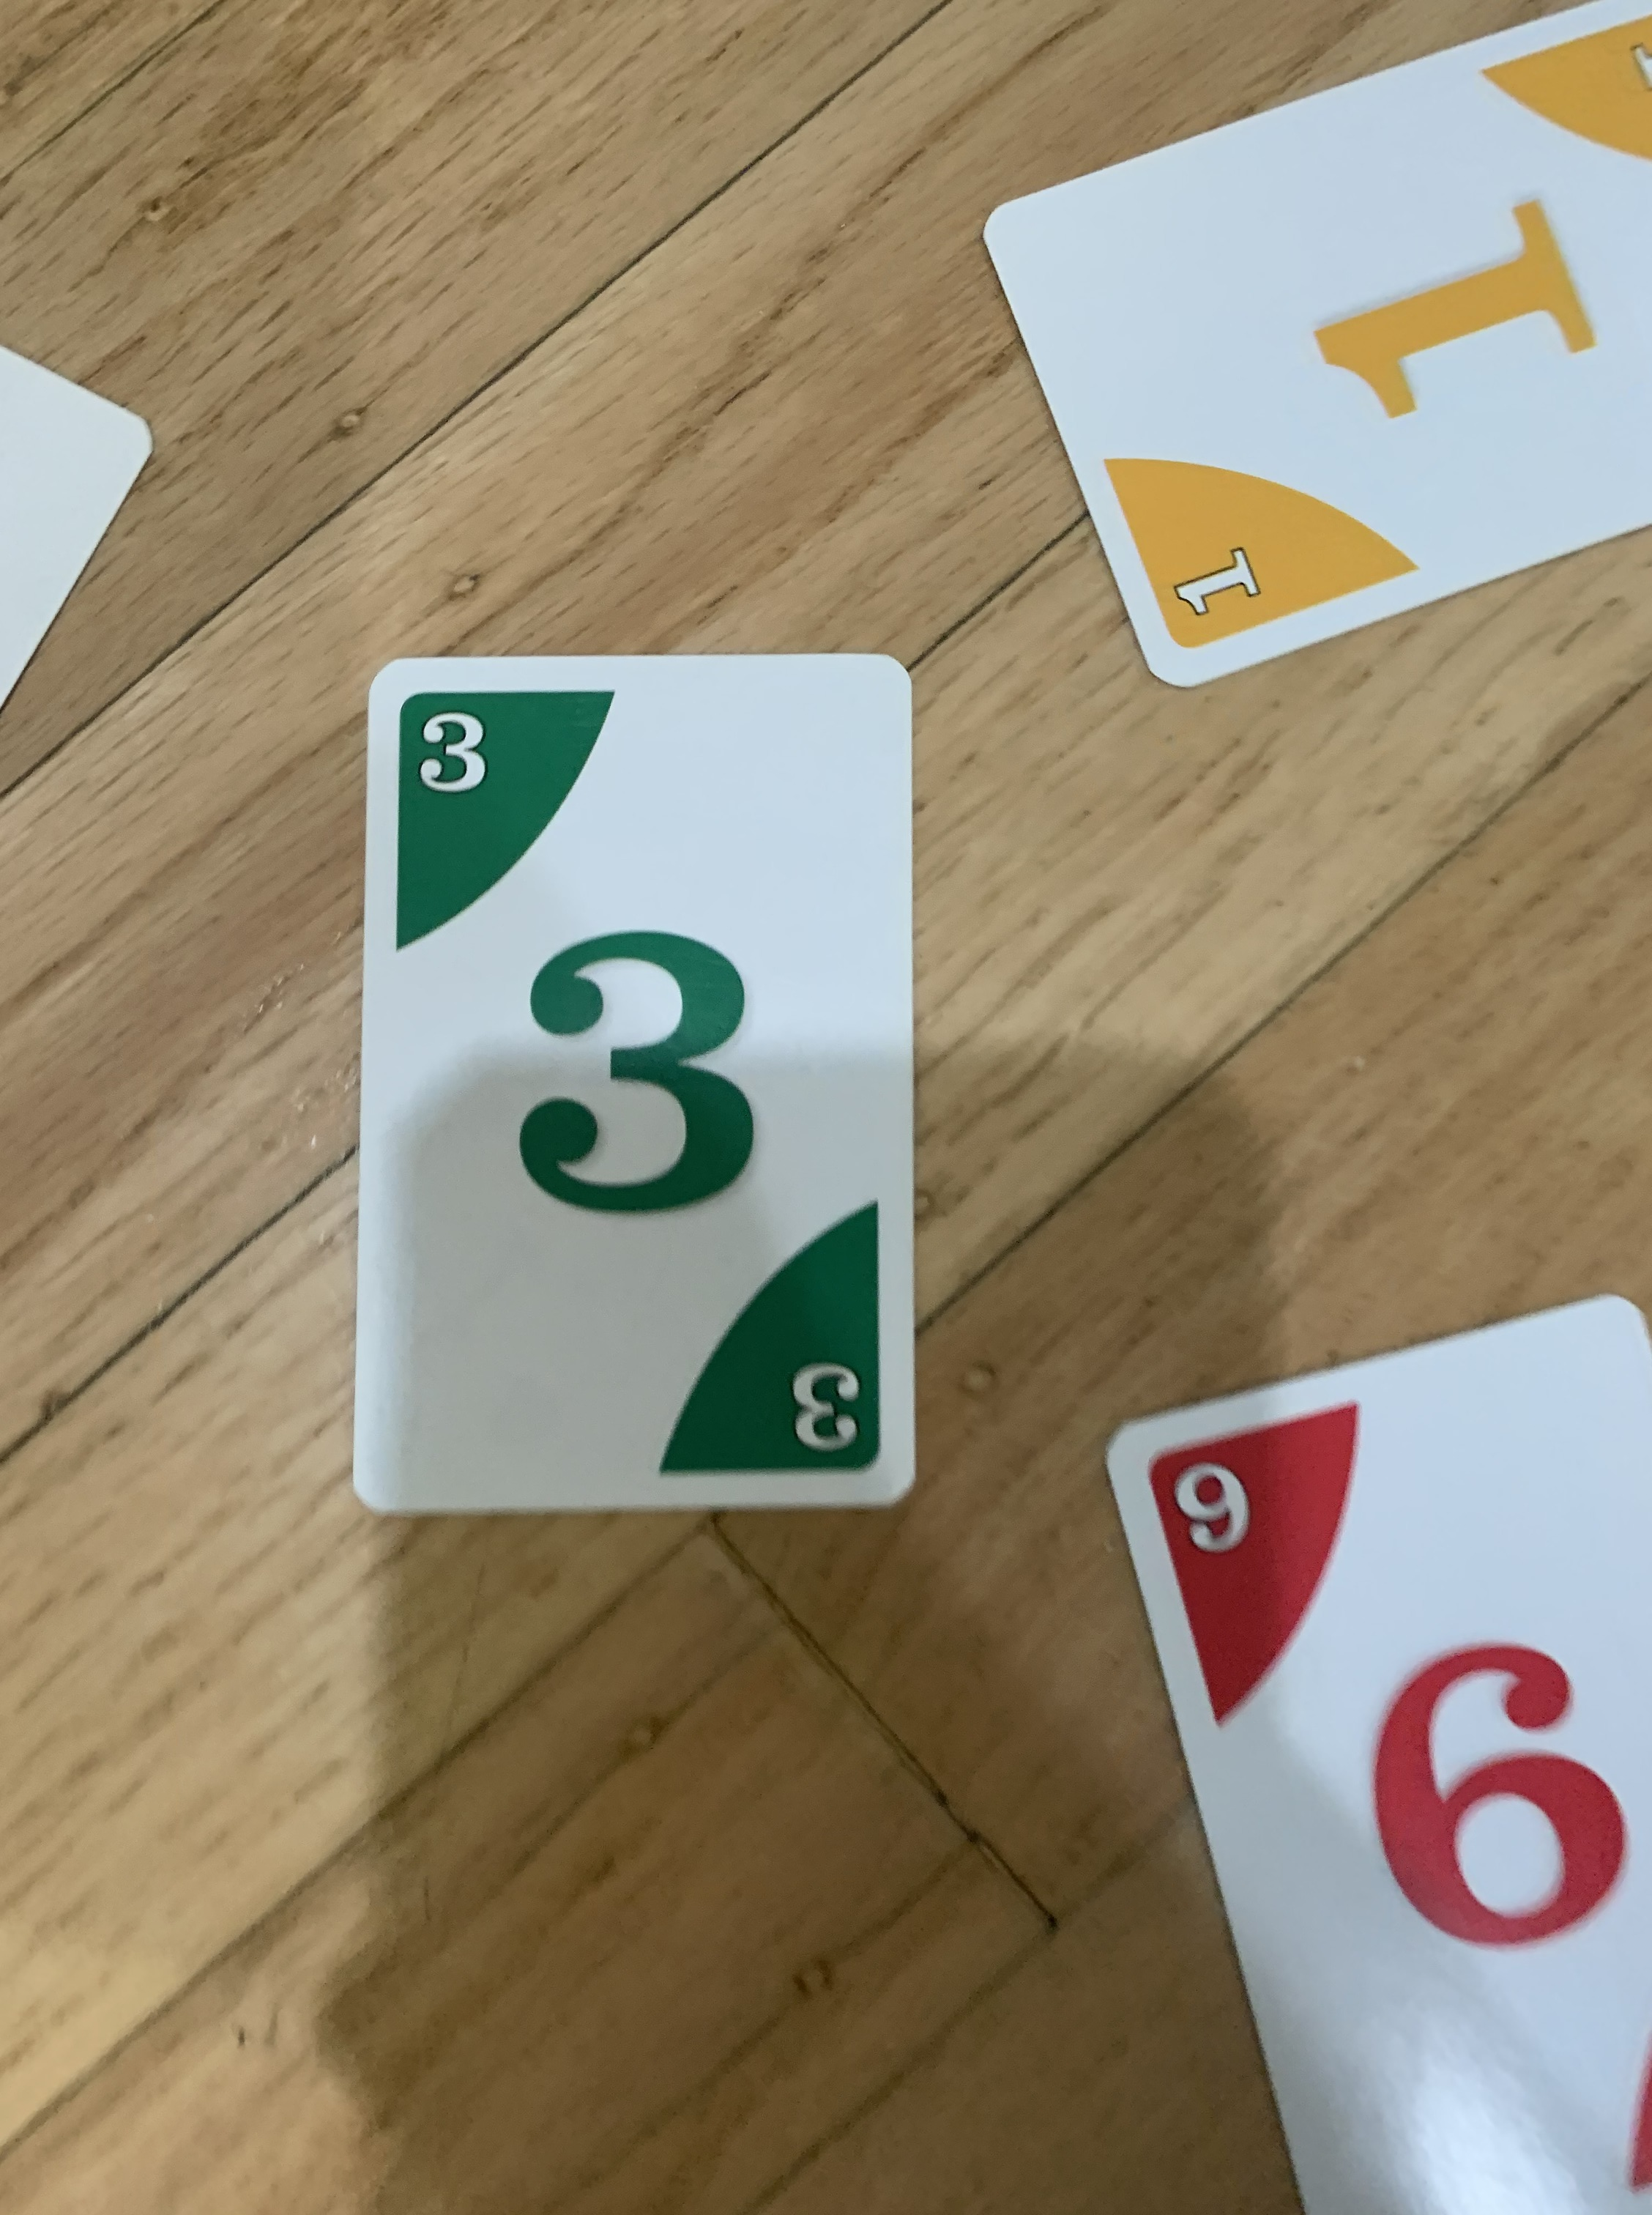six: (1098, 1285, 1652, 2206)
three: (337, 641, 921, 1521)
